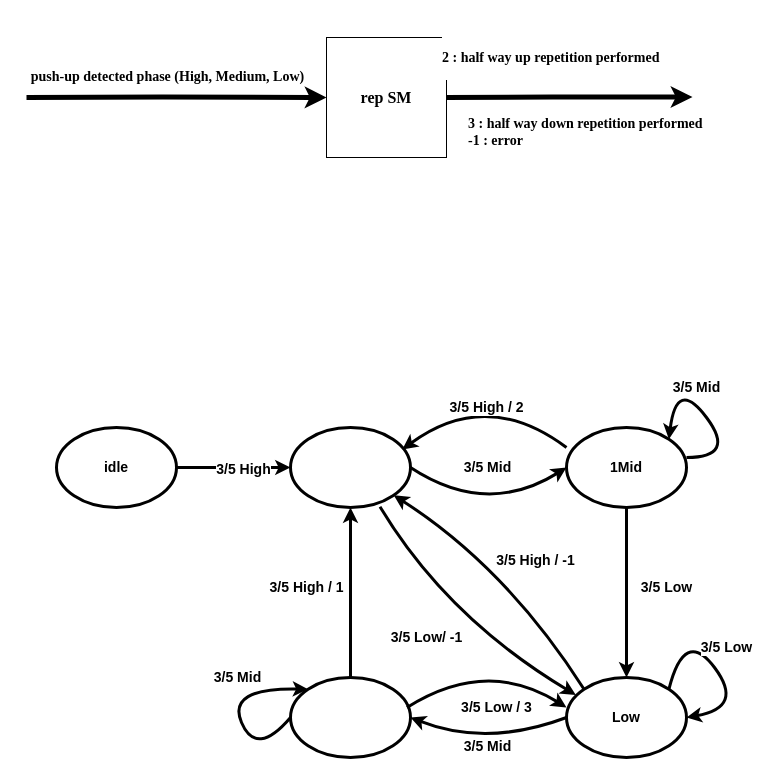
Image size: 770x777. Some labels were removed from this diagram. Each missing label, with the centre of its shape:
"1High" belongs at (x=350, y=467).
"2Mid" belongs at (x=350, y=717).
